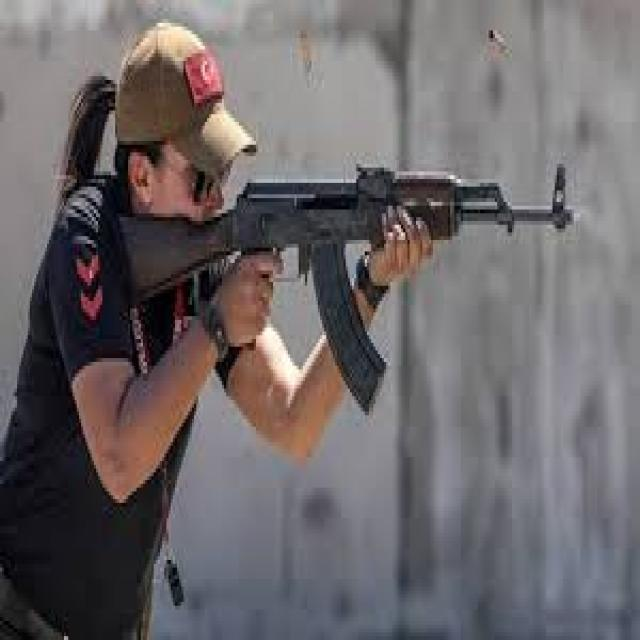Rifle: (115, 161, 577, 419)
